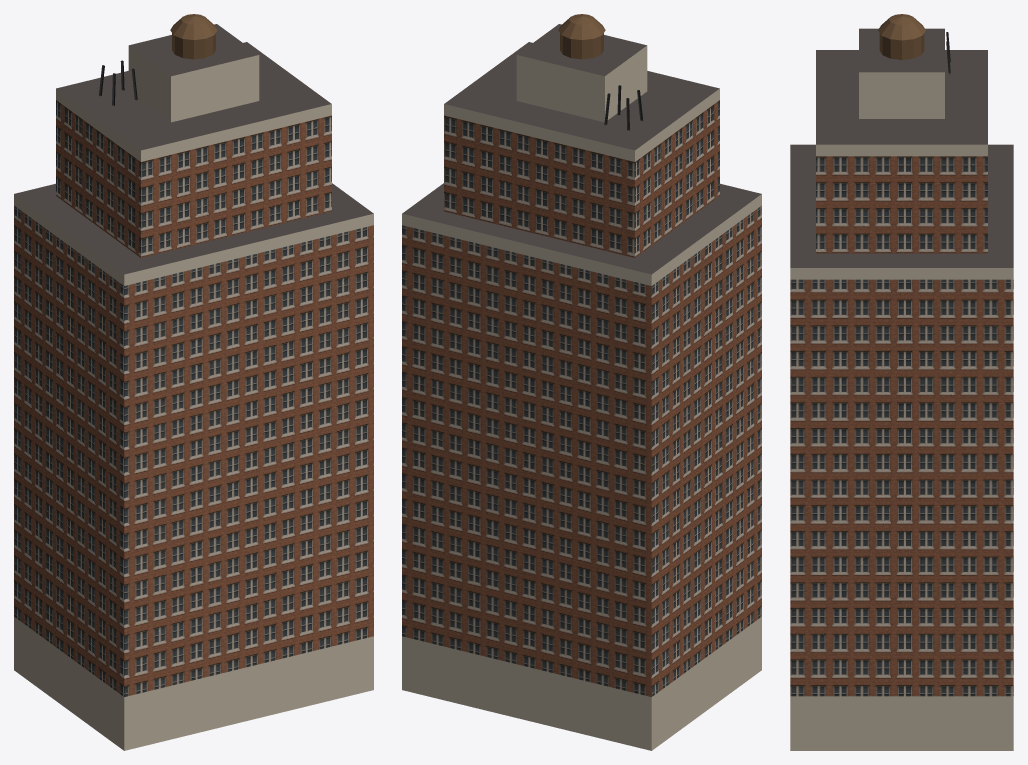
The model's file is gen_short_brick_hotel.glb.
3 renders of one model, left to right at view 1: azimuth 30°, elevation 25°; view 2: azimuth 150°, elevation 25°; view 3: azimuth 270°, elevation 25°, orthographic.
Parts seen in each view (by area): view 1: gen_short_brick_hotel; view 2: gen_short_brick_hotel; view 3: gen_short_brick_hotel.
Part boxes in pixels (bbox=[...]): gen_short_brick_hotel: bbox=[14, 14, 373, 750]; gen_short_brick_hotel: bbox=[402, 14, 761, 750]; gen_short_brick_hotel: bbox=[790, 14, 1013, 750].
Size of the model in its own units: 34 by 86.4 by 26.
2 materials, 2 textured.
